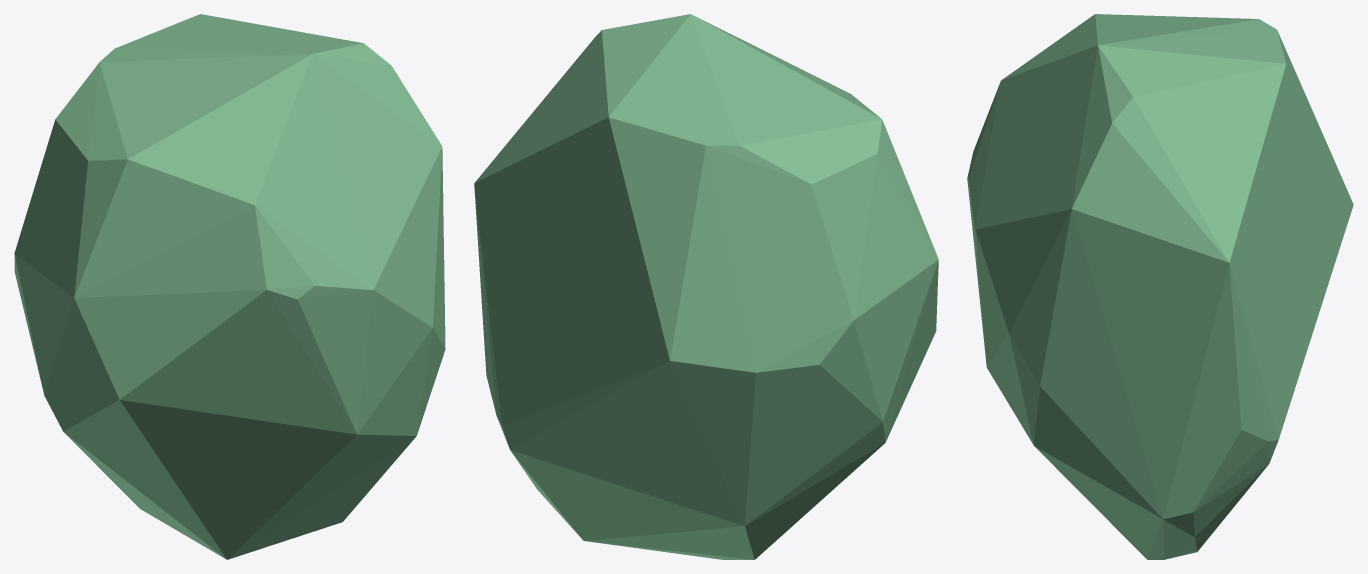
The model's file is food_produce_mango_l01.glb.
The picture shows the model from 3 angles, left to right: view 1: azimuth 30°, elevation 25°; view 2: azimuth 150°, elevation 25°; view 3: azimuth 270°, elevation 25°; orthographic projection. The views are drawn at different scales.
Visible parts, largest first — view 1: geometry_0; view 2: geometry_0; view 3: geometry_0.
Boxes of the visible parts, x1,y1,x2,y2 form: geometry_0: (14,14,445,559); geometry_0: (474,14,938,559); geometry_0: (967,14,1353,559).
Bounding box in the file's own units: 0.3707 × 0.4639 × 0.3294.
